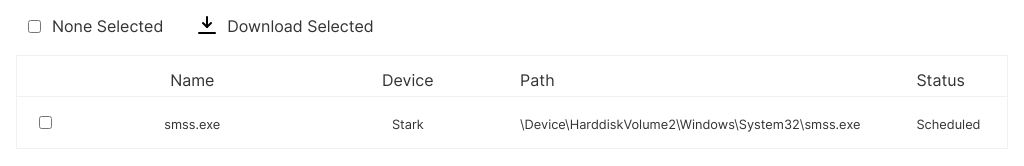
Test case: Test Assessment › select-all checkbox test cases › Clicking the select-all checkbox should select all items if none or some are selected.
Click the checkbox with test id "select-all" at (34, 26), box [28,20,41,32]
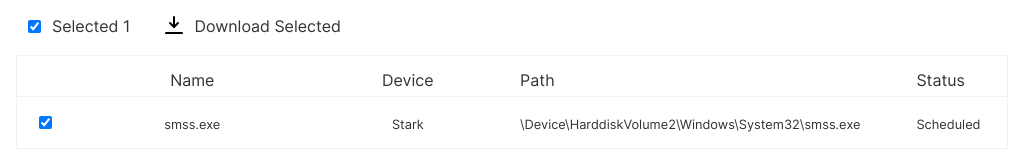
Result: the checkbox with test id "row-smss.exe" is checked at [39,116,52,129]
